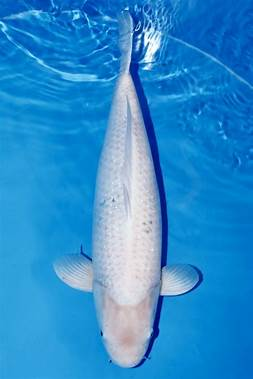white: (52, 8, 202, 368)
